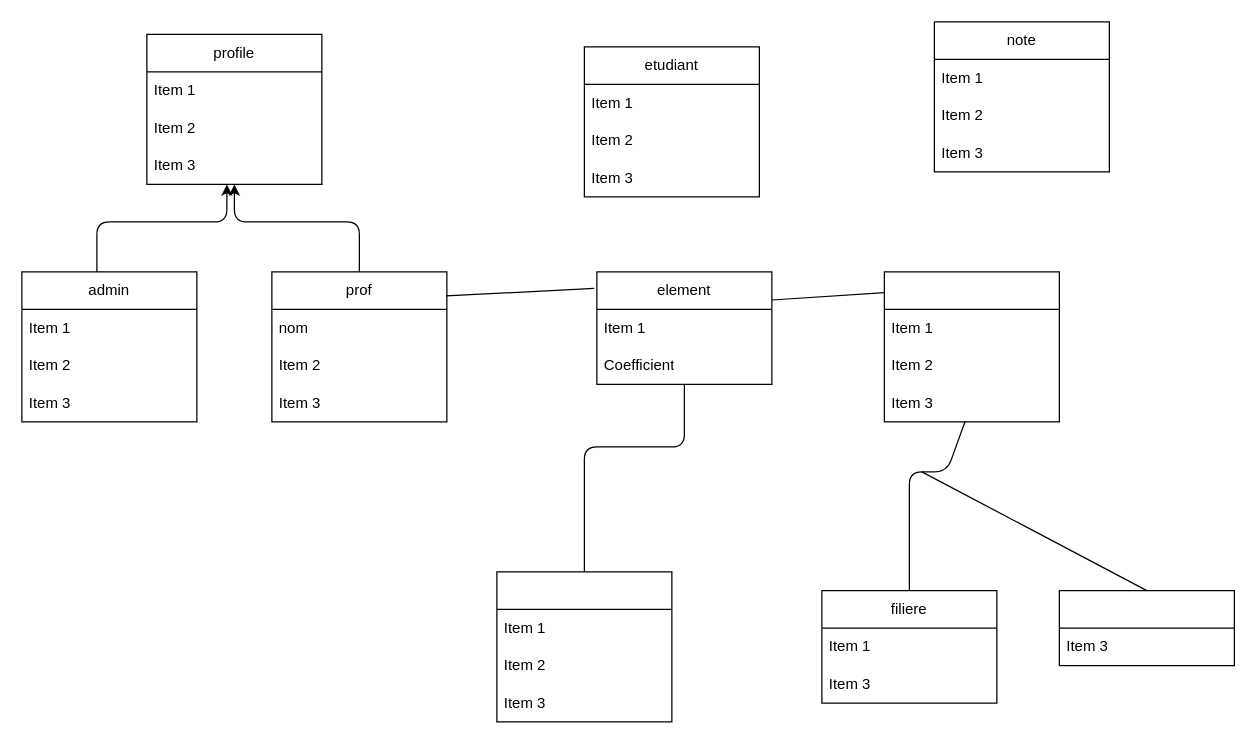
Image size: 1256x744. Some labels were removed from this diagram. Each missing label, with the box of its shape:
modalité: (496, 571, 672, 722)
Module: (883, 271, 1059, 422)
semestre: (1058, 589, 1234, 666)
